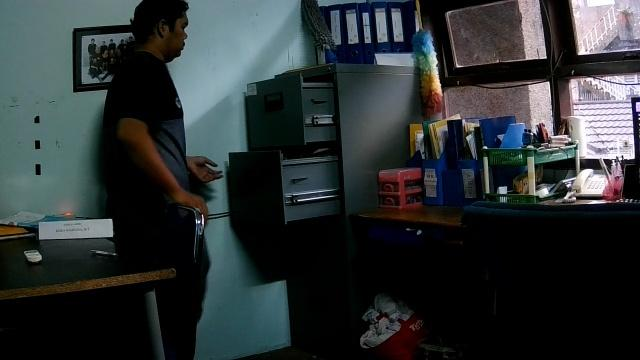Filing Cabinet: (226, 63, 346, 233)
